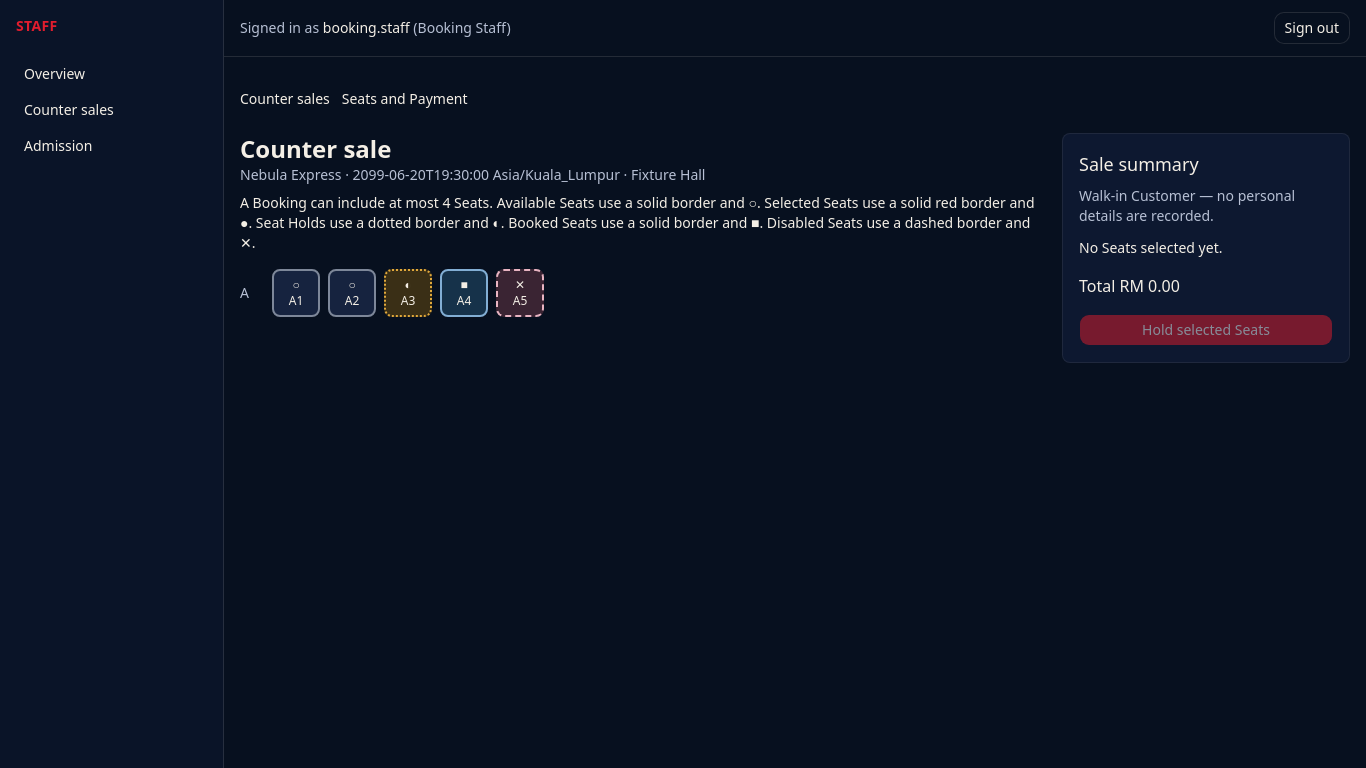
CounterSalePage › refreshes availability when selected Seats are no longer available
Click the button named "Seat A1, available": (296, 293) left=272, top=269, right=320, bottom=317
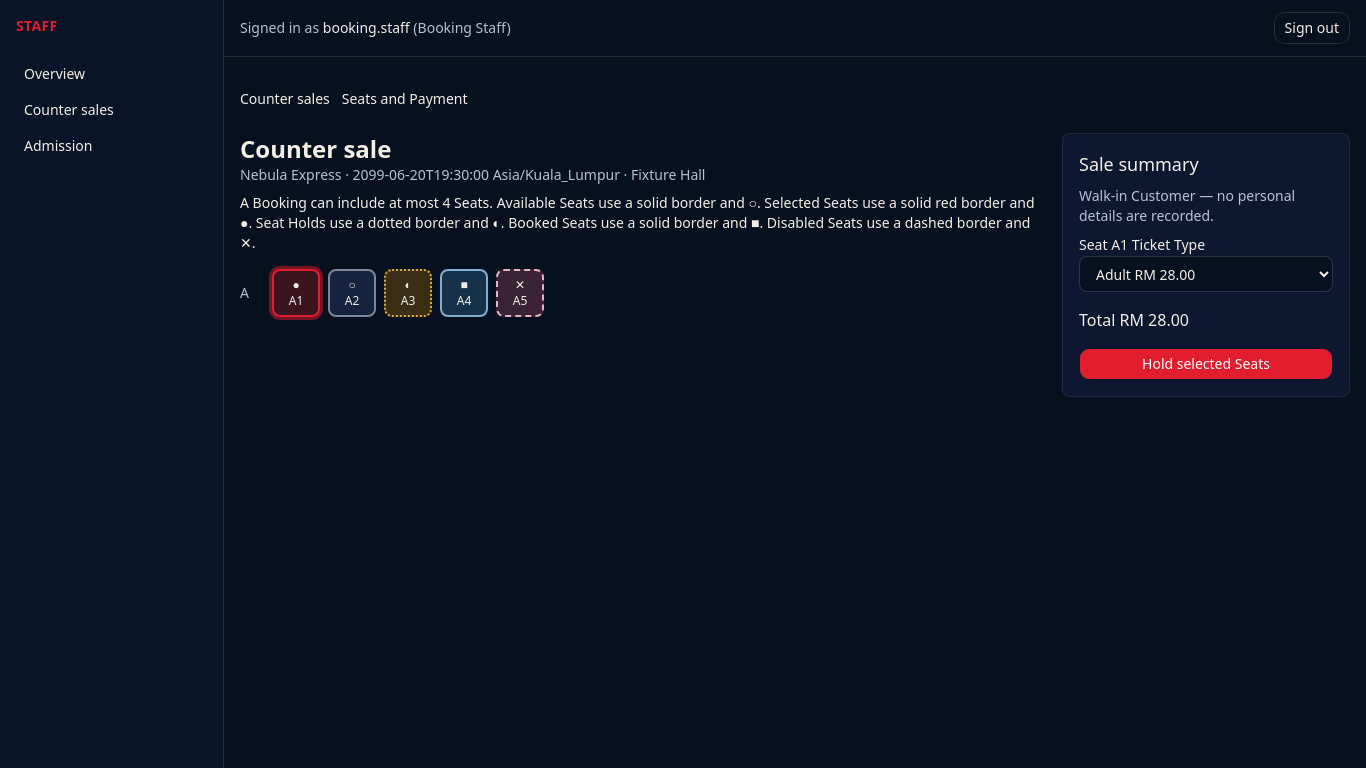
Click the button "Hold selected Seats": (1206, 364) left=1079, top=348, right=1333, bottom=380
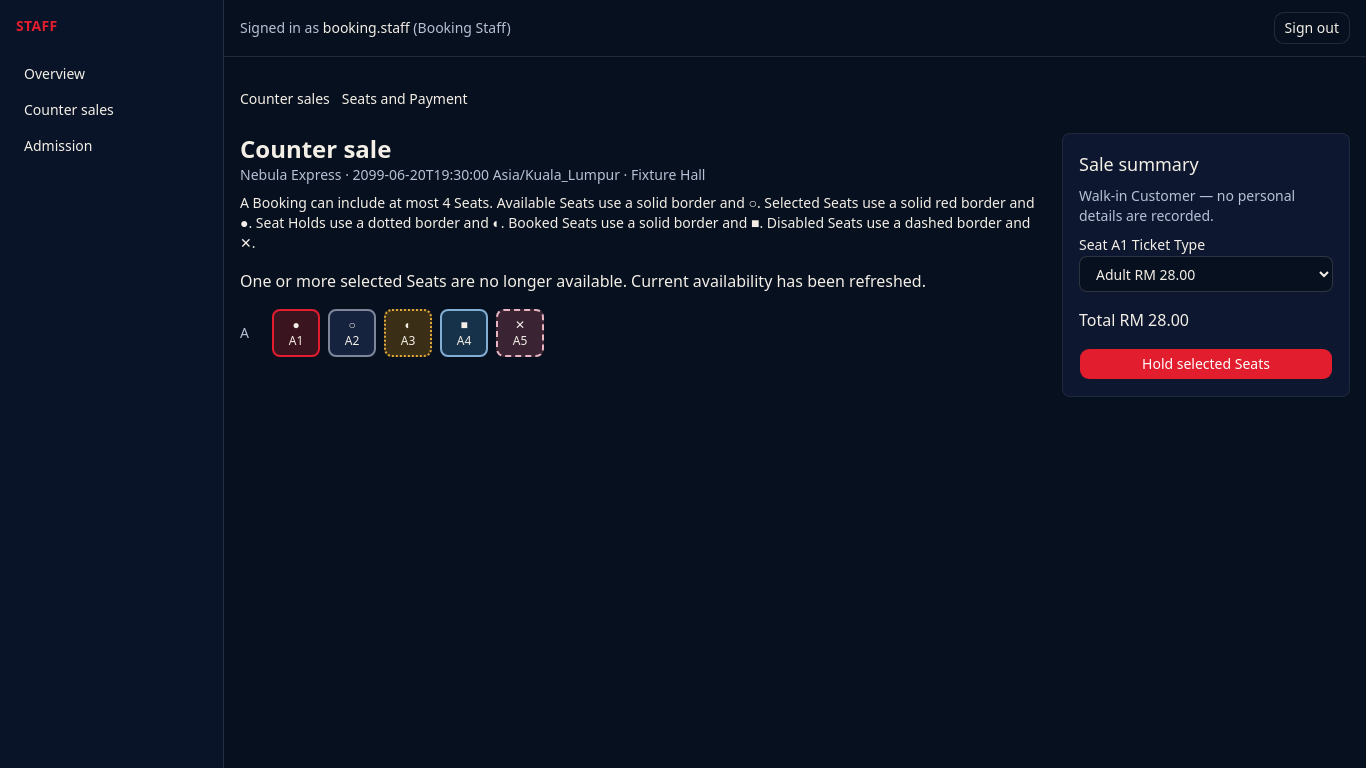
Expected: the 1st message shows "One or more selected Seats are no longer available. Current availability has been refreshed.", left=240, top=270, right=926, bottom=292
